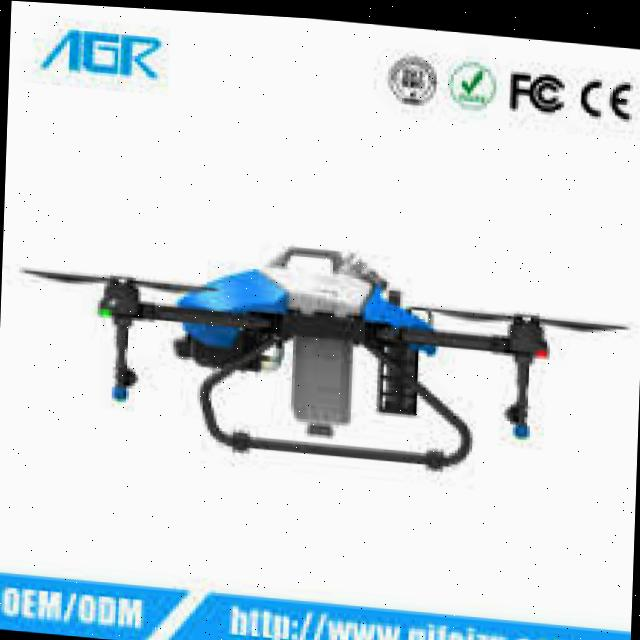drone: (29, 199, 618, 503)
